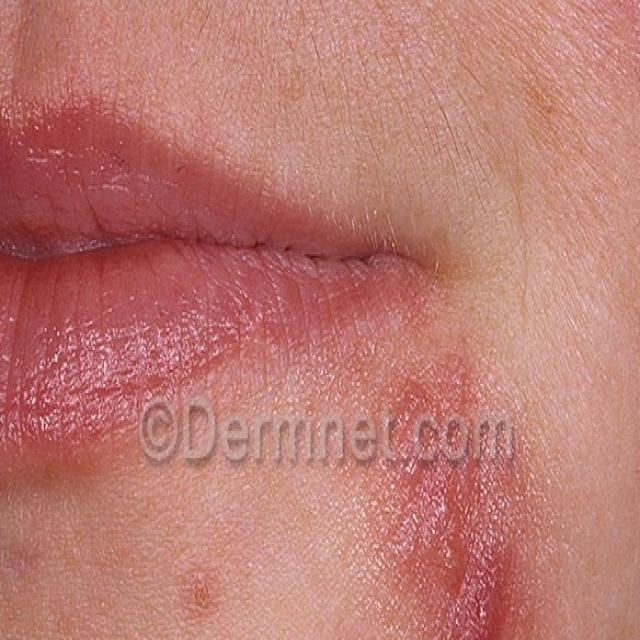Viral Infections: (374, 322, 530, 640)
